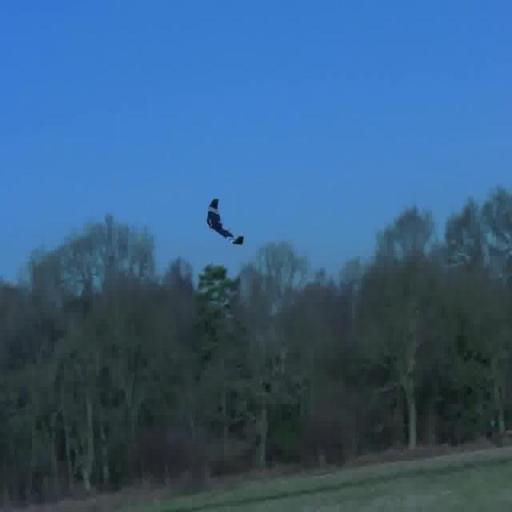uav: (202, 192, 251, 254)
